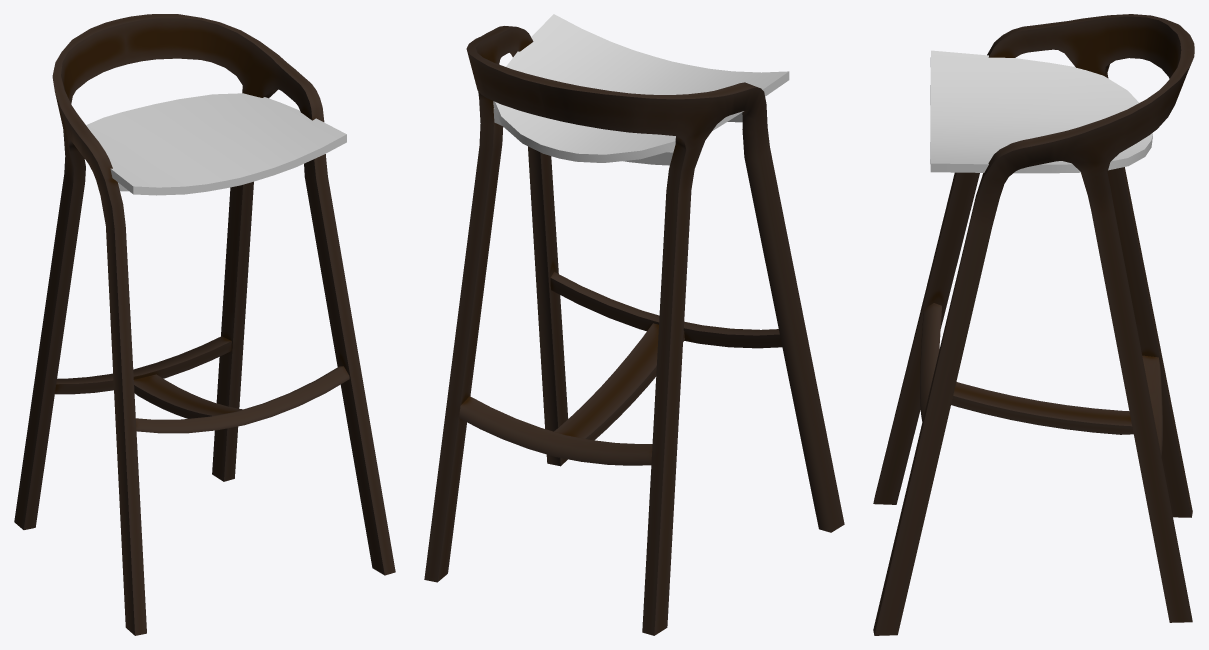
The model's file is DinningChair.fbx.
3 renders of one model, left to right at view 1: azimuth 30°, elevation 25°; view 2: azimuth 150°, elevation 25°; view 3: azimuth 270°, elevation 25°, orthographic. The views are drawn at different scales.
Visible parts, largest first — view 1: DinningChair; view 2: DinningChair; view 3: DinningChair.
Boxes of the visible parts, x1,y1,x2,y2 form: DinningChair: (14, 14, 395, 635); DinningChair: (424, 14, 844, 635); DinningChair: (873, 14, 1194, 635).
Size of the model in its own units: 46.42 by 81.12 by 45.72.
